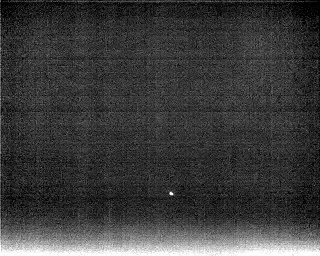BIRD: (167, 188, 176, 199)
